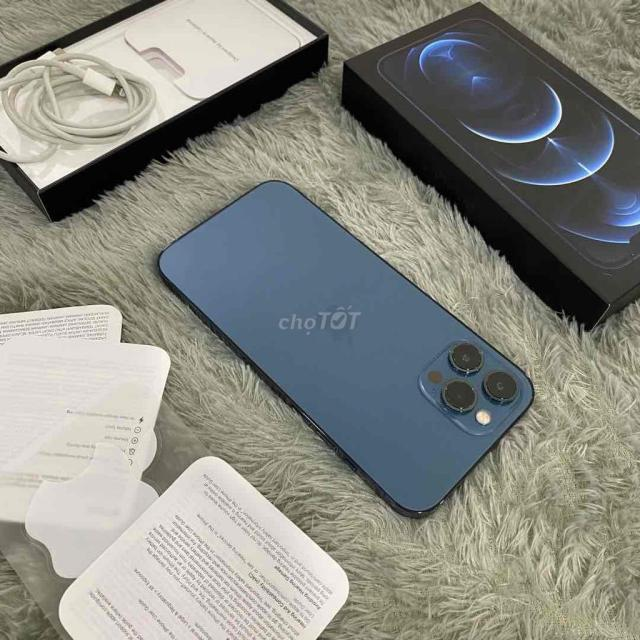gen_12_13: (154, 173, 536, 517)
